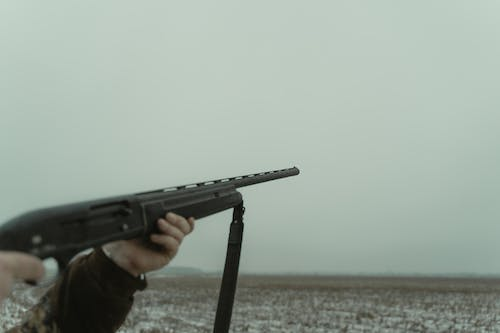gun: (0, 164, 301, 289)
